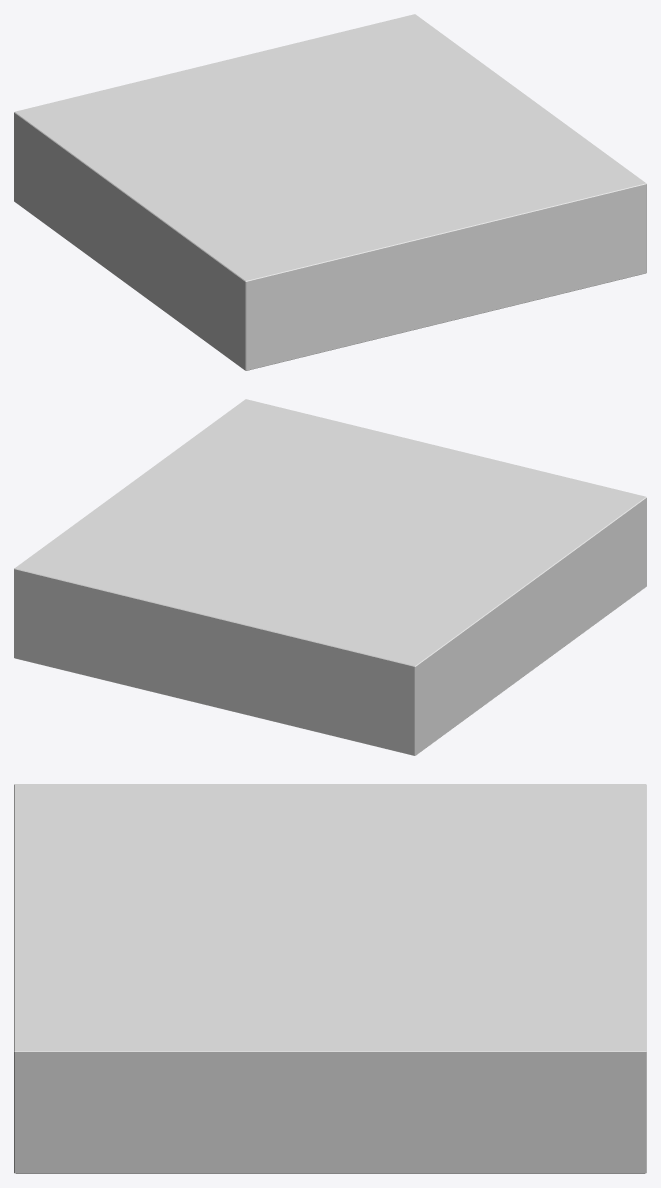
File: Ceiling_Lamp.fbx
3 renders of one model, top to bottom at view 1: azimuth 30°, elevation 25°; view 2: azimuth 150°, elevation 25°; view 3: azimuth 270°, elevation 25°, orthographic. The views are drawn at different scales.
Visible parts, largest first — view 1: Ceiling_lamp; view 2: Ceiling_lamp; view 3: Ceiling_lamp.
Boxes of the visible parts, x1,y1,x2,y2 form: Ceiling_lamp: (14, 14, 646, 370); Ceiling_lamp: (14, 399, 646, 755); Ceiling_lamp: (14, 784, 646, 1173).
Size of the model in its own units: 0.7 by 0.15 by 0.7.
